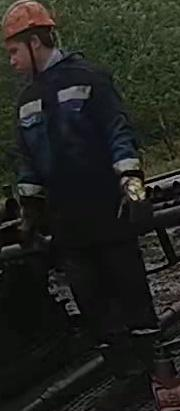gloves: (112, 157, 156, 237), (15, 182, 53, 255)
helmet: (0, 0, 56, 41)
vest: (13, 53, 124, 206)
